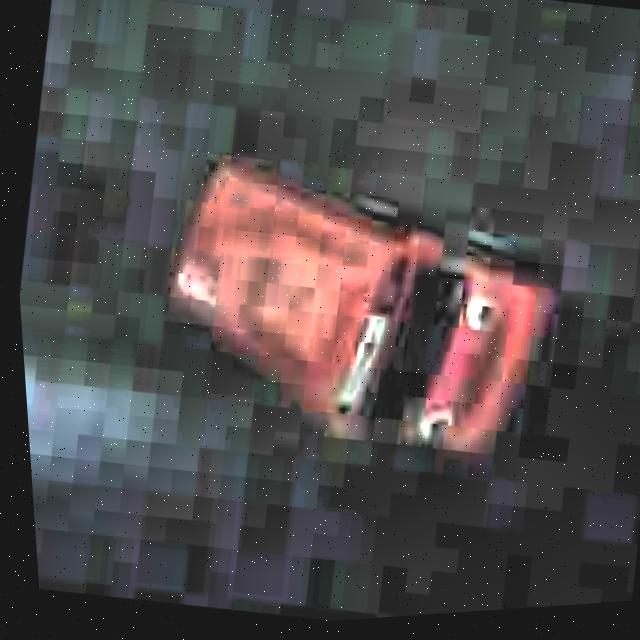bus: (112, 102, 598, 499)
